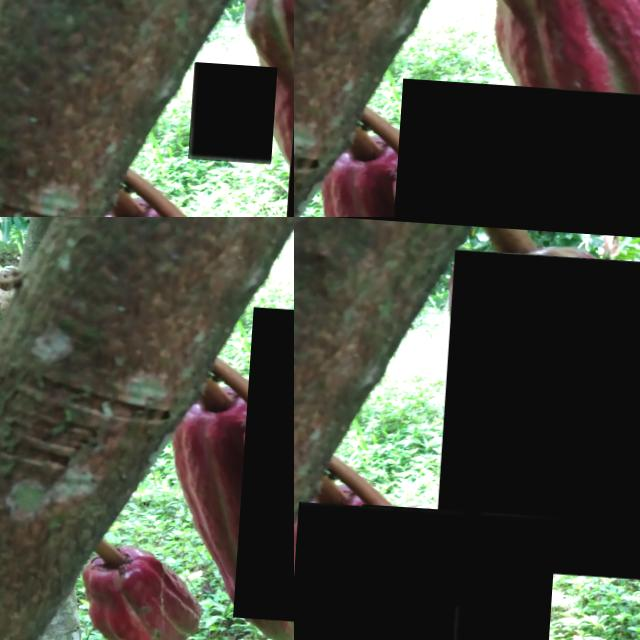Fitoftora: (240, 303, 294, 623)
Sana: (439, 244, 640, 575), (383, 74, 640, 217), (355, 500, 560, 640), (294, 499, 468, 640), (192, 58, 279, 159)
